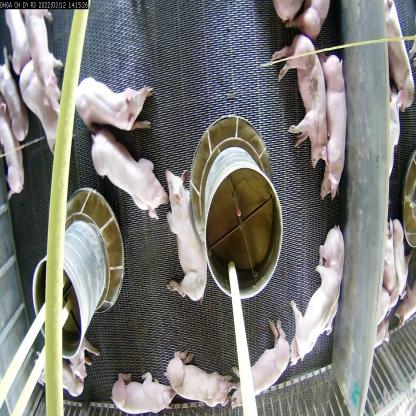Pig: (269, 34, 330, 170), (86, 130, 171, 218), (160, 166, 211, 303), (231, 321, 296, 415), (70, 64, 154, 130), (288, 266, 339, 374), (312, 47, 345, 205), (20, 7, 69, 113), (163, 347, 234, 415), (16, 64, 68, 155), (317, 224, 346, 341), (110, 368, 181, 415)
